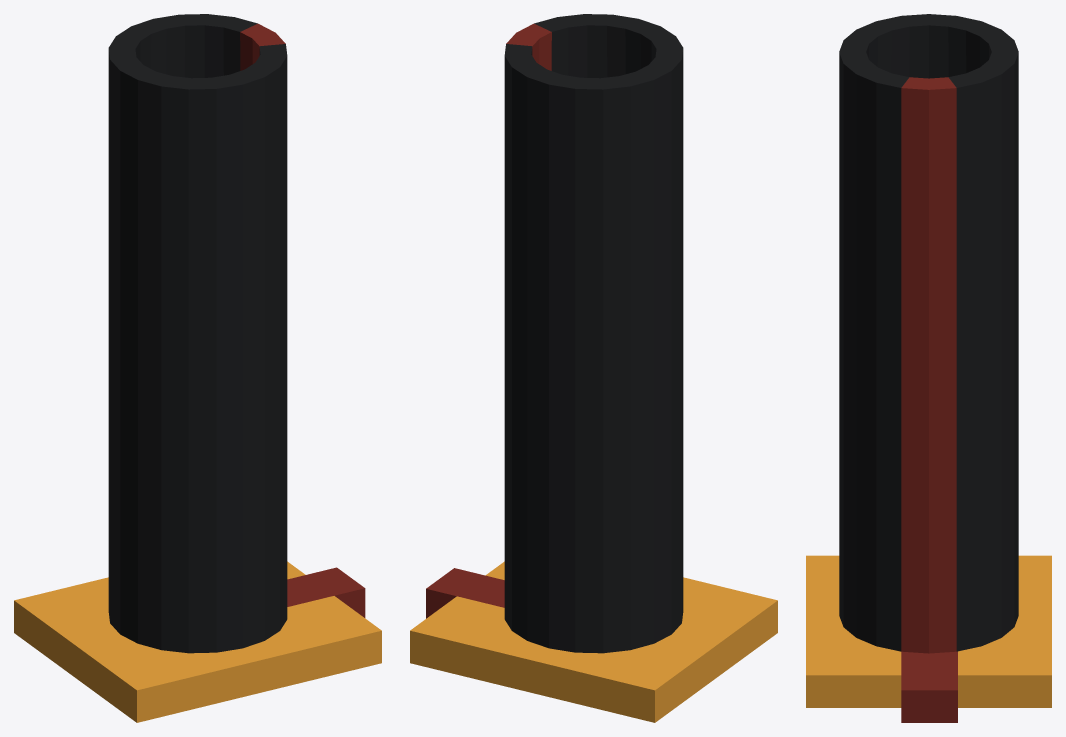
File: SparkleTube3.fbx
The picture shows the model from 3 angles, left to right: view 1: azimuth 30°, elevation 25°; view 2: azimuth 150°, elevation 25°; view 3: azimuth 270°, elevation 25°; orthographic projection.
Visible parts, largest first — view 1: Cylinder, Cube; view 2: Cylinder, Cube; view 3: Cylinder, Cube.
Boxes of the visible parts, bbox=[...] form: Cylinder: bbox=[108, 14, 287, 653]; Cube: bbox=[14, 561, 381, 722]; Cylinder: bbox=[504, 14, 683, 653]; Cube: bbox=[410, 561, 777, 722]; Cylinder: bbox=[839, 14, 1018, 653]; Cube: bbox=[806, 555, 1051, 722].
Bounding box in the file's own units: 35.46 × 73.23 × 27.37.
